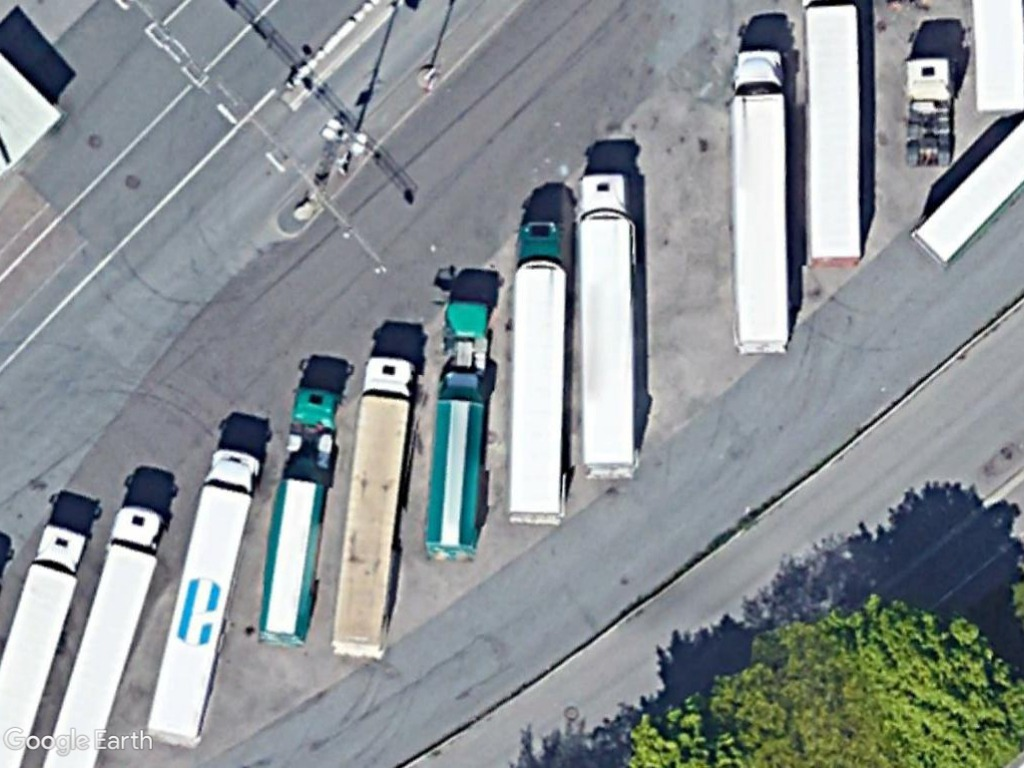longvehicle: (133, 437, 271, 752), (34, 502, 176, 762), (319, 351, 424, 664), (565, 160, 648, 490), (250, 378, 344, 650), (503, 217, 580, 544), (731, 41, 801, 366), (420, 290, 497, 573)
truck: (0, 511, 103, 722)
